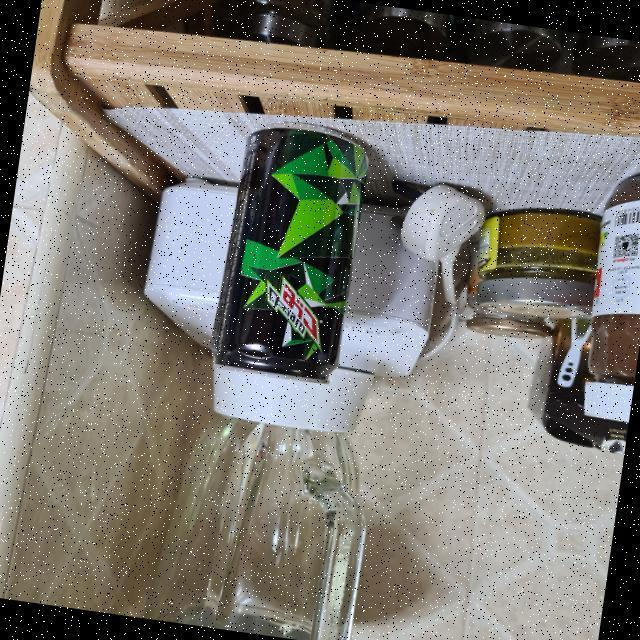can: (192, 117, 382, 397)
